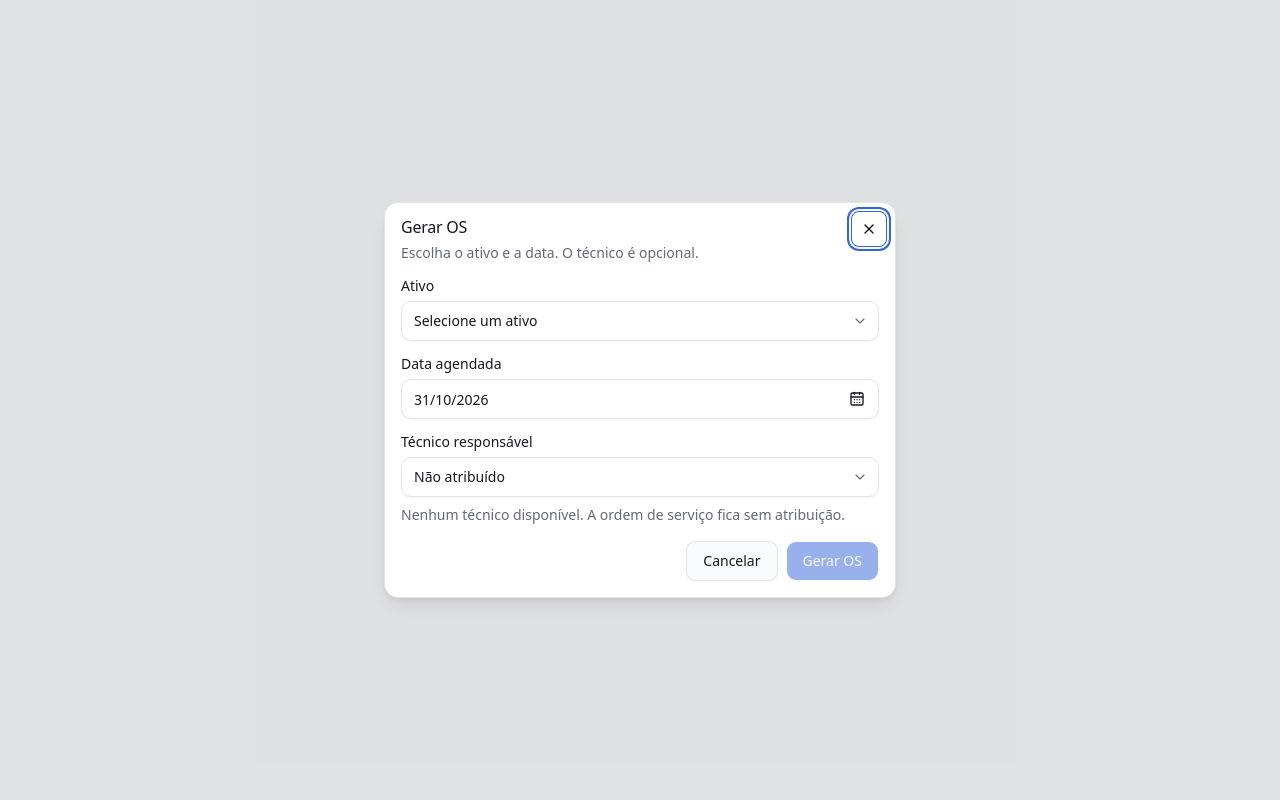
GenerateWorkOrderDialog › E: duplicate 409 shows dedicated copy and keeps the dialog open
Click the dropdown labelled "ativo" at (476, 320), box [401,301,879,341]
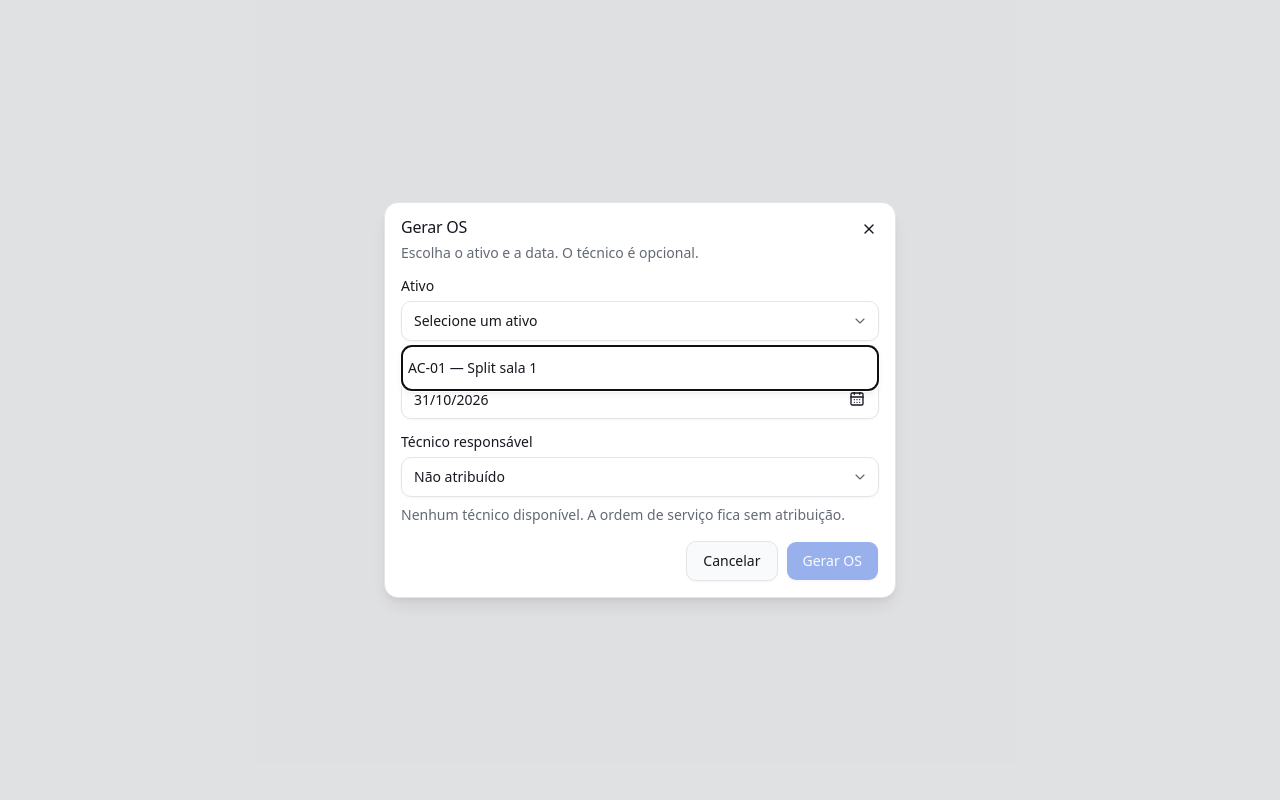
Click the option "AC-01 — Split sala 1" at (473, 368), box [408,358,537,377]
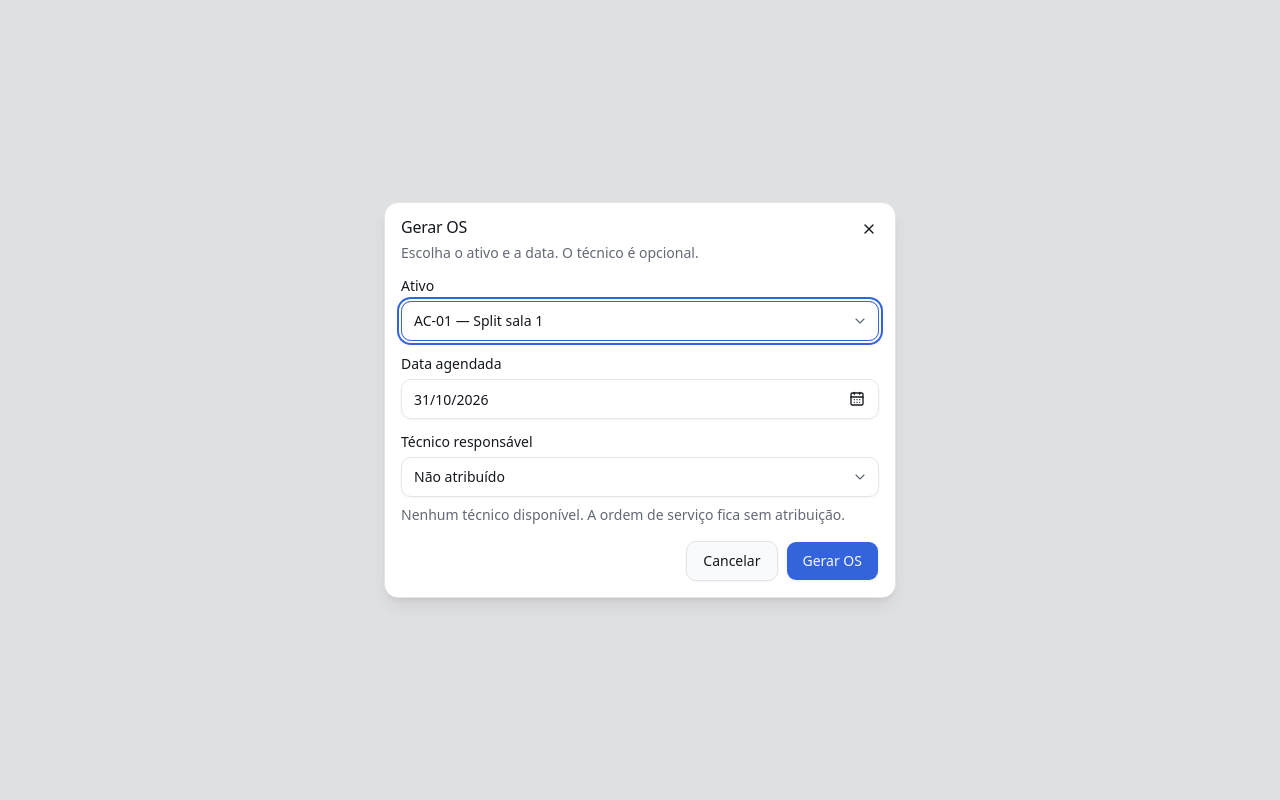
Click the button "Gerar OS" at (832, 561), box [786,541,879,581]
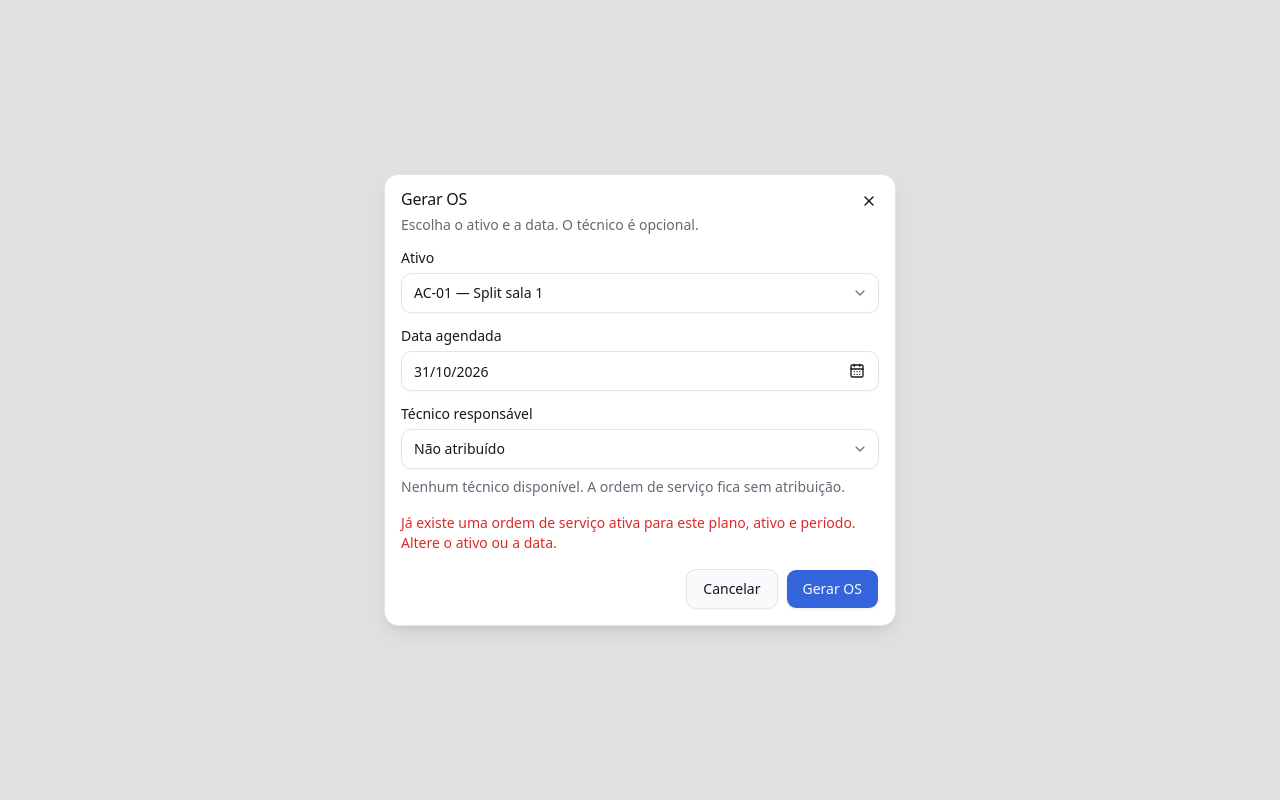
Expected: the heading "Gerar OS" is shown, [401,188,467,210]
Result: the text "Já existe uma ordem de serviço ativa para este plano, ativo e período. Altere o ativo ou a data." is shown at [401,513,856,552]
